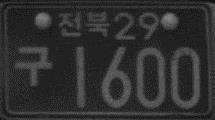0: (136, 46, 165, 109), (172, 46, 200, 109)
1: (73, 44, 87, 112)
2: (115, 10, 137, 41)
6: (100, 45, 133, 107)
9: (138, 10, 160, 40)
구: (12, 44, 53, 87)
전북_O: (56, 9, 110, 39)
